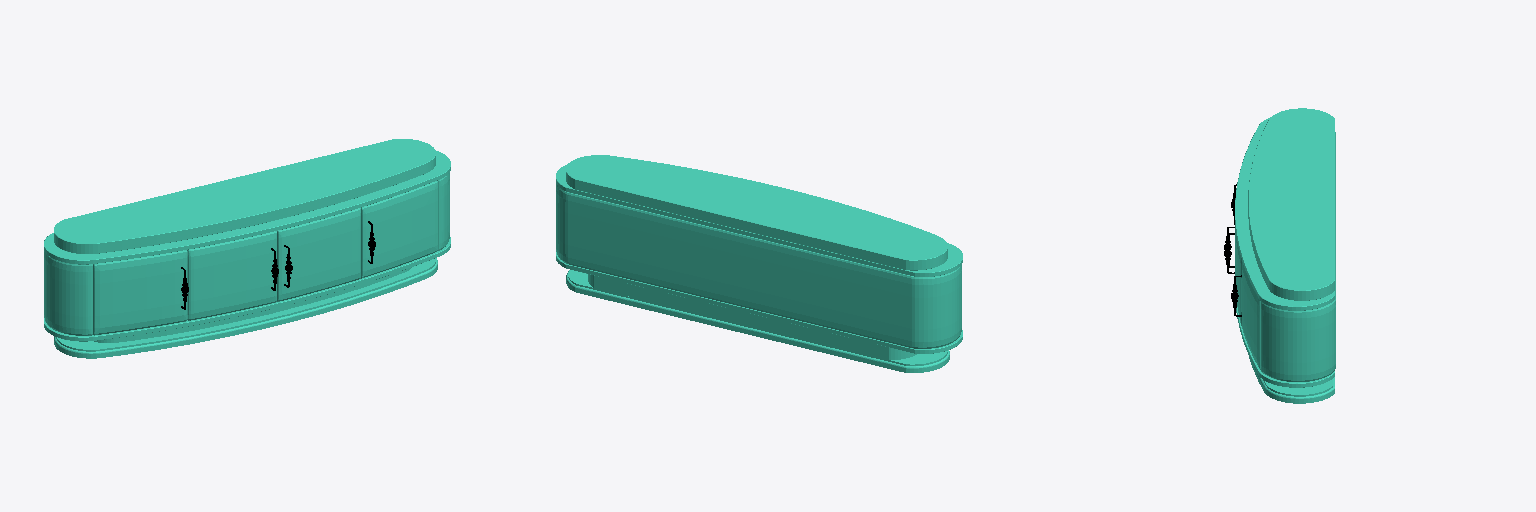
3 renders of one model, left to right at view 1: azimuth 30°, elevation 25°; view 2: azimuth 150°, elevation 25°; view 3: azimuth 270°, elevation 25°, orthographic.
Parts seen in each view (by area): view 1: 7_obj_[number redacted]_, 21_obj_[number redacted]_, 5_obj_[number redacted]_, 4_obj_[number redacted]_, 3_obj_[number redacted]_, 20_obj_[number redacted]_, 2_obj_[number redacted]_, 6_obj_[number redacted]_; view 2: 3_obj_[number redacted]_, 21_obj_[number redacted]_, 5_obj_[number redacted]_, 6_obj_[number redacted]_, 20_obj_[number redacted]_, 4_obj_[number redacted]_, 2_obj_[number redacted]_; view 3: 21_obj_[number redacted]_, 3_obj_[number redacted]_, 4_obj_[number redacted]_, 7_obj_[number redacted]_, 5_obj_[number redacted]_, 20_obj_[number redacted]_, 2_obj_[number redacted]_.
Part boxes in pixels (left/top/right/bottom): 7_obj_[number redacted]_: left=93, top=181, right=437, bottom=335; 21_obj_[number redacted]_: left=54, top=139, right=435, bottom=243; 5_obj_[number redacted]_: left=54, top=258, right=437, bottom=358; 4_obj_[number redacted]_: left=44, top=151, right=450, bottom=264; 3_obj_[number redacted]_: left=44, top=173, right=449, bottom=335; 20_obj_[number redacted]_: left=54, top=156, right=435, bottom=253; 2_obj_[number redacted]_: left=44, top=237, right=450, bottom=341; 6_obj_[number redacted]_: left=94, top=267, right=411, bottom=342; 3_obj_[number redacted]_: left=556, top=184, right=961, bottom=348; 21_obj_[number redacted]_: left=566, top=155, right=947, bottom=260; 5_obj_[number redacted]_: left=566, top=270, right=949, bottom=372; 6_obj_[number redacted]_: left=588, top=274, right=916, bottom=359; 20_obj_[number redacted]_: left=566, top=173, right=947, bottom=270; 4_obj_[number redacted]_: left=556, top=164, right=962, bottom=276; 2_obj_[number redacted]_: left=556, top=252, right=962, bottom=353; 21_obj_[number redacted]_: left=1248, top=108, right=1334, bottom=290; 3_obj_[number redacted]_: left=1261, top=132, right=1335, bottom=381; 4_obj_[number redacted]_: left=1235, top=117, right=1334, bottom=310; 7_obj_[number redacted]_: left=1235, top=226, right=1260, bottom=369; 5_obj_[number redacted]_: left=1249, top=357, right=1334, bottom=403; 20_obj_[number redacted]_: left=1248, top=209, right=1334, bottom=300; 2_obj_[number redacted]_: left=1236, top=307, right=1334, bottom=387.
Bounding box in the file's own units: 3009 × 819 × 739.